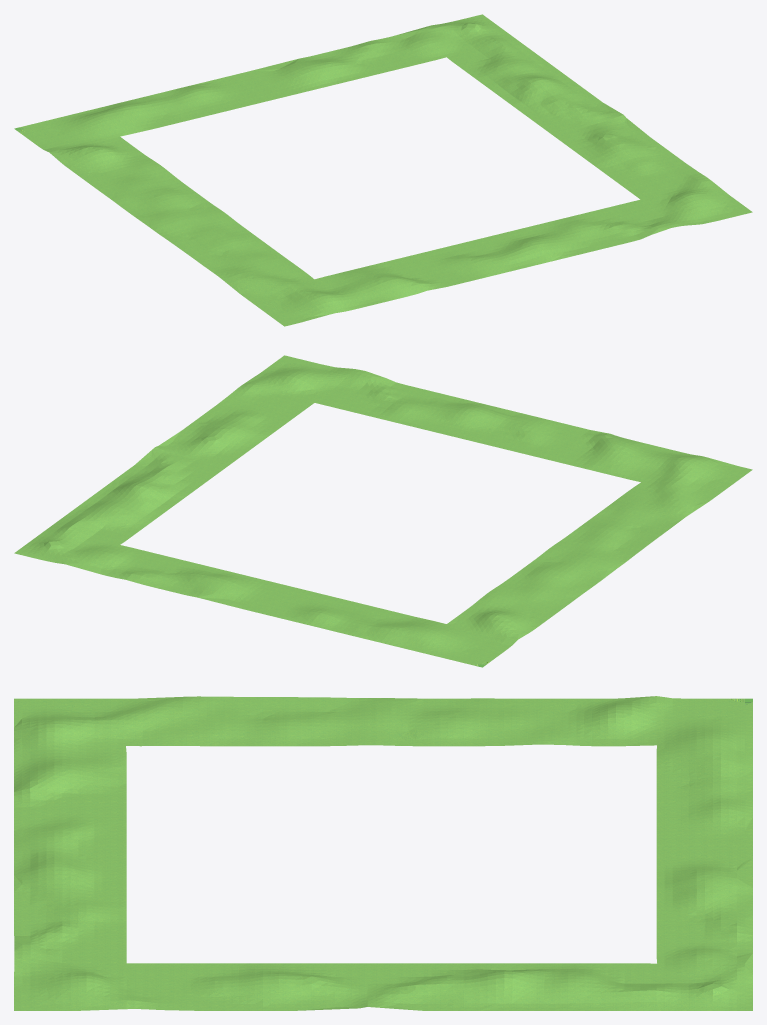
Rendered from grassLevelNoHoles.obj.
3 renders of one model, top to bottom at view 1: azimuth 30°, elevation 25°; view 2: azimuth 150°, elevation 25°; view 3: azimuth 270°, elevation 25°, orthographic. The views are drawn at different scales.
Visible parts, largest first — view 1: Plane.001_Plane.005; view 2: Plane.001_Plane.005; view 3: Plane.001_Plane.005.
Part boxes in pixels (x1=…): Plane.001_Plane.005: x1=14, y1=14, x2=752, y2=326; Plane.001_Plane.005: x1=14, y1=355, x2=752, y2=667; Plane.001_Plane.005: x1=14, y1=696, x2=752, y2=1010.
Size of the model in its own units: 585 by 10.91 by 585.
